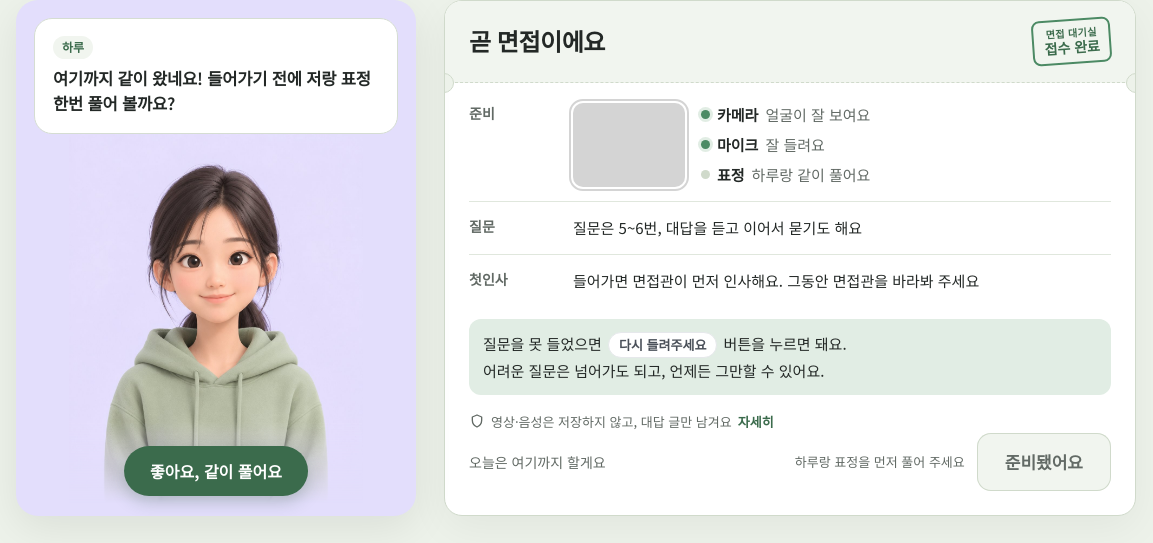
Scenario: 3단계 면접 대기실 › 표정을 맞추기 전에는 들어갈 수 없고, 하루와 표정 맞추기를 시작할 수 있다
Later steps or results of the test are not shown.
expect the button "준비됐어요" is disabled: met, box x1=977 y1=433 x2=1111 y2=491
Note: 바로 시작하지 않고 3단계를 먼저 보여 준 뒤 "시작"으로
Click the button "좋아요, 같이 풀어요". click: [216, 471]
box: x1=124 y1=446 x2=308 y2=496
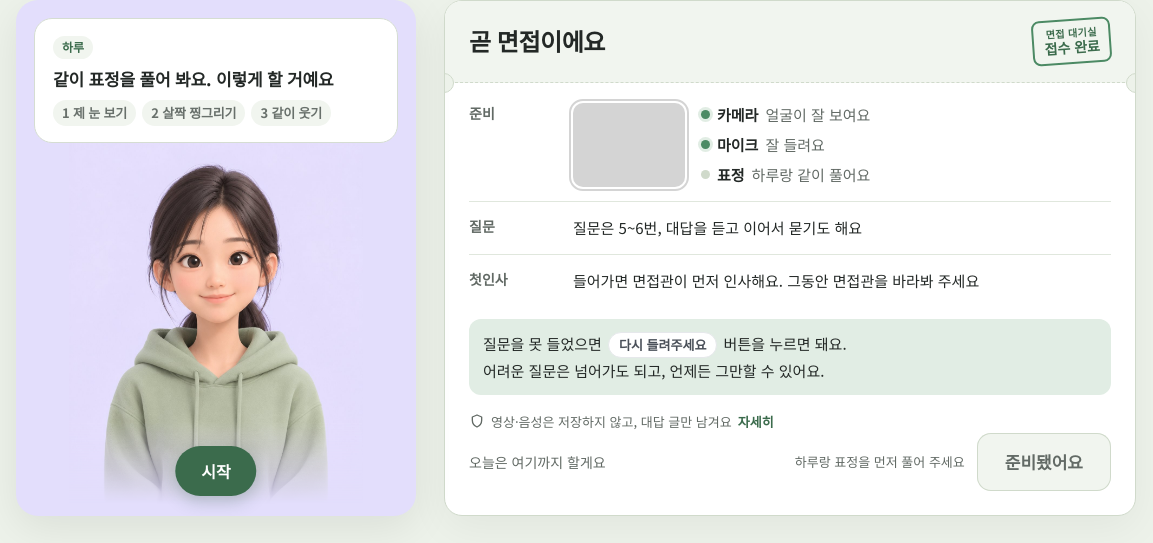
expect the list item "살짝 찡그리기" is shown: met, box x1=142 y1=100 x2=245 y2=126
